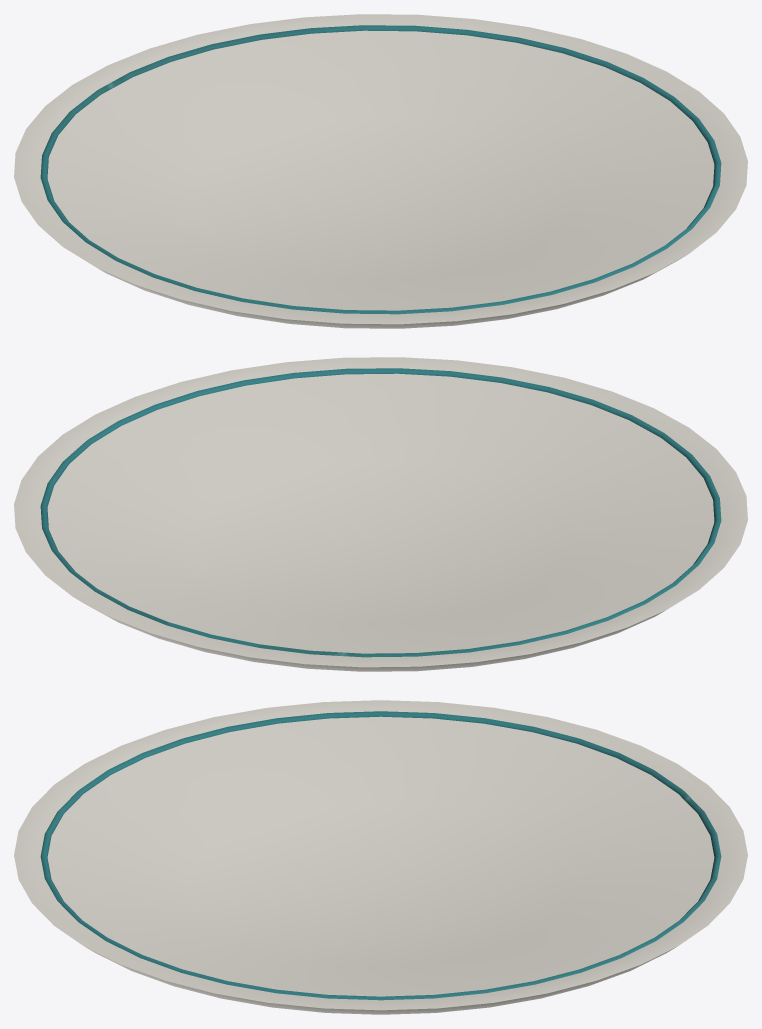
Rendered from Plate.glb.
3 views of the same model, one above another, from view 1: azimuth 30°, elevation 25°; view 2: azimuth 150°, elevation 25°; view 3: azimuth 270°, elevation 25° (orthographic).
Visible parts, largest first — view 1: Plate_Body; view 2: Plate_Body; view 3: Plate_Body.
Part boxes in pixels (x1,y1,x2,y2): Plate_Body: [14, 14, 747, 328]; Plate_Body: [14, 357, 747, 671]; Plate_Body: [14, 700, 747, 1014].
Bounding box in the file's own units: 0.25 × 0.0225 × 0.25.
2 materials, 1 textured.
